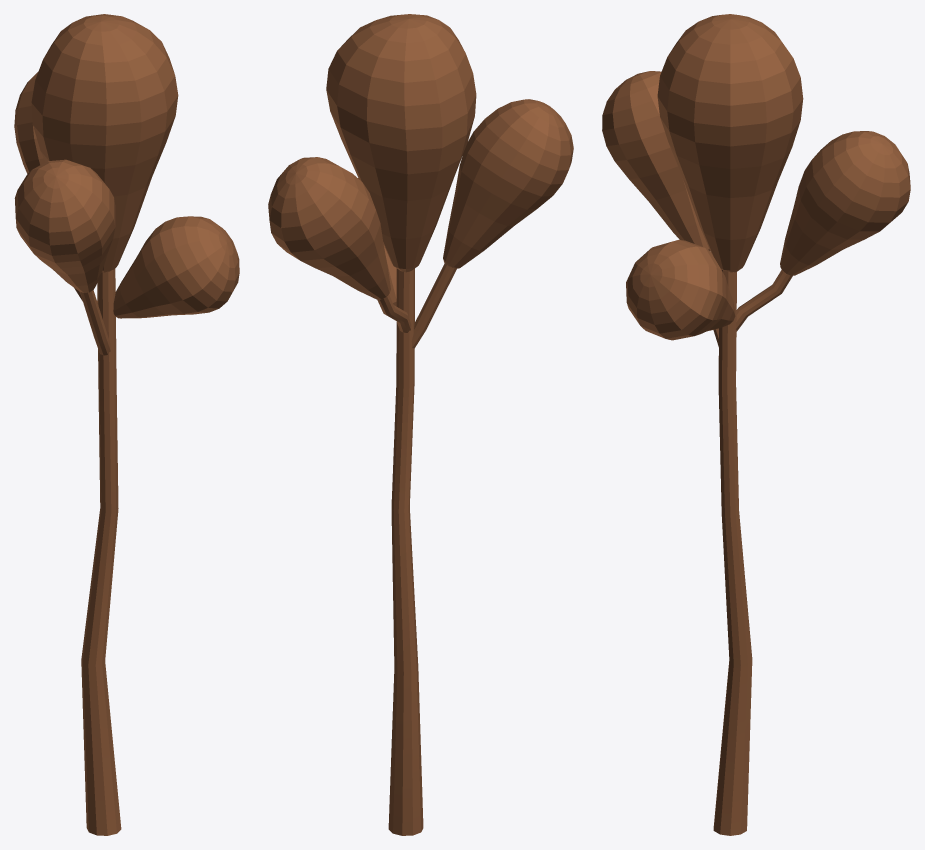
Rendered from env_tree_01.fbx.
3 renders of one model, left to right at view 1: azimuth 30°, elevation 25°; view 2: azimuth 150°, elevation 25°; view 3: azimuth 270°, elevation 25°, orthographic.
Parts seen in each view (by area): view 1: pSphere5; view 2: pSphere5; view 3: pSphere5.
Part boxes in pixels (bbox=[...]): pSphere5: bbox=[14, 14, 239, 835]; pSphere5: bbox=[268, 14, 573, 835]; pSphere5: bbox=[602, 14, 910, 835].
Size of the model in its own units: 1.95 by 6.67 by 2.31.
